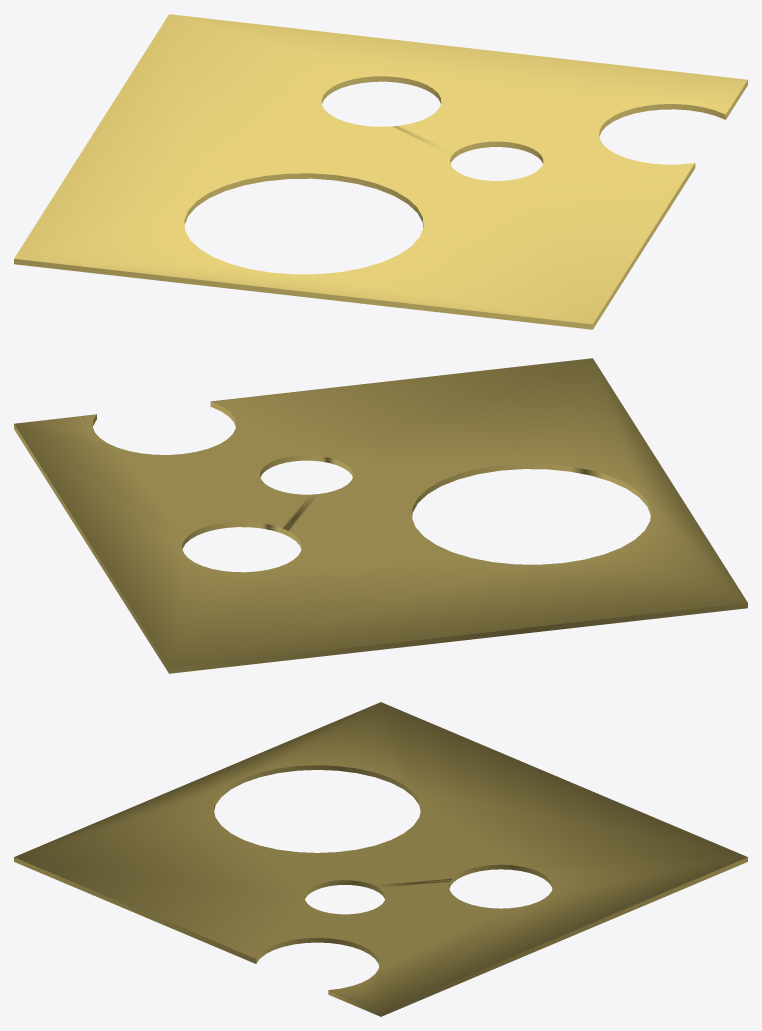
Rendered from Cheese.fbx.
The picture shows the model from 3 angles, top to bottom: view 1: azimuth 30°, elevation 25°; view 2: azimuth 150°, elevation 25°; view 3: azimuth 270°, elevation 25°; orthographic projection. The views are drawn at different scales.
Visible parts, largest first — view 1: CheeseTM; view 2: CheeseTM; view 3: CheeseTM.
Boxes of the visible parts, bbox=[...] form: CheeseTM: bbox=[14, 14, 747, 329]; CheeseTM: bbox=[14, 358, 747, 673]; CheeseTM: bbox=[14, 702, 747, 1016].
Size of the model in its own units: 7.18 by 0.0508 by 7.18.
